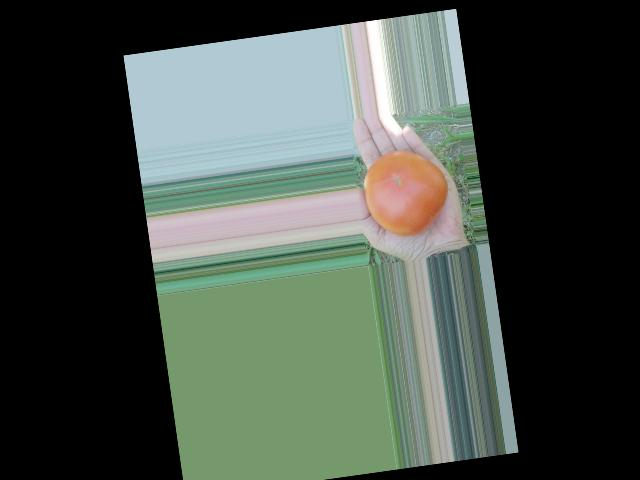tomato: (359, 144, 454, 240)
